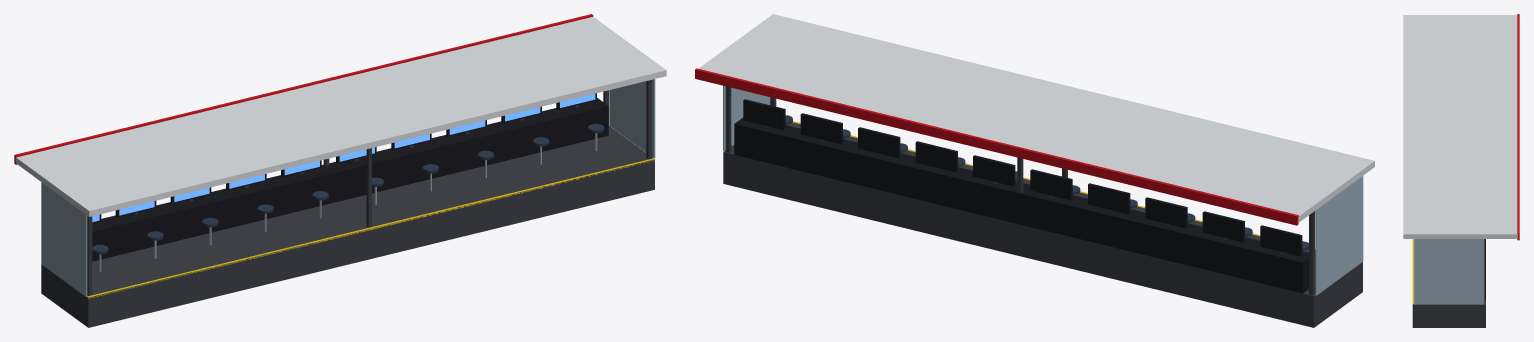
The model's file is pit_station.glb.
3 views of the same model, side by side, from view 1: azimuth 30°, elevation 25°; view 2: azimuth 150°, elevation 25°; view 3: azimuth 270°, elevation 25° (orthographic). The views are drawn at different scales.
Parts seen in each view (by area): view 1: pit_station; view 2: pit_station; view 3: pit_station.
Boxes of the visible parts, box(x1,y1,x2,y2) form: pit_station: box(14, 14, 666, 327); pit_station: box(695, 14, 1374, 327); pit_station: box(1403, 14, 1519, 327).
Size of the model in its own units: 16.3 by 3.35 by 3.66.
